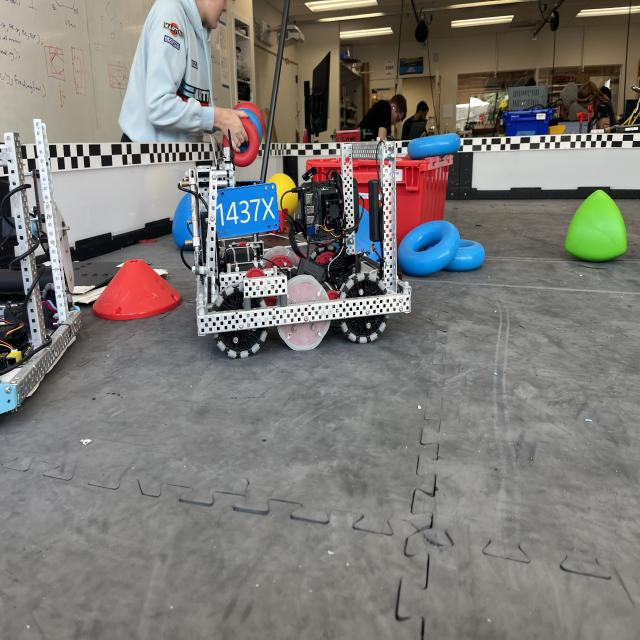Blue-Ring: (398, 220, 460, 277), (408, 133, 460, 160), (444, 240, 485, 272)
Red-Ring: (222, 117, 259, 167)
